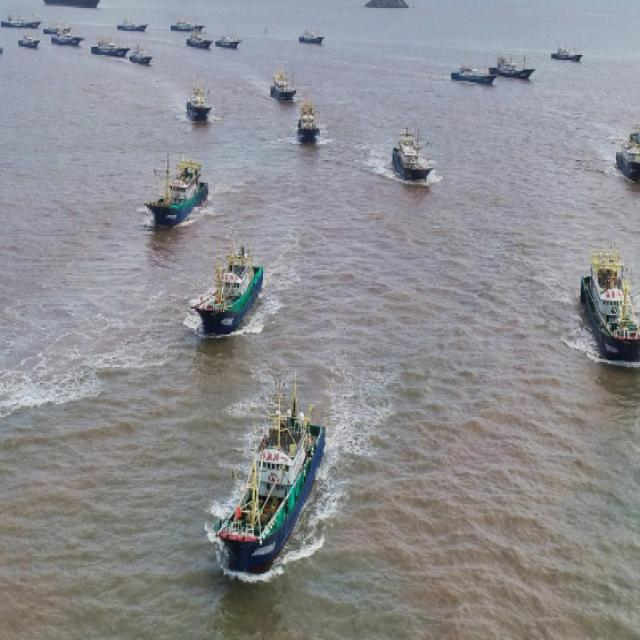fishing boat: (216, 370, 322, 573), (193, 234, 264, 332), (576, 246, 640, 352), (144, 154, 208, 223), (394, 126, 433, 182), (490, 50, 537, 79), (452, 60, 500, 85), (294, 100, 320, 144), (618, 136, 640, 181), (550, 38, 584, 62), (269, 72, 297, 100), (89, 39, 130, 58), (0, 12, 45, 27), (49, 29, 83, 46), (129, 45, 153, 69), (185, 30, 210, 51), (43, 0, 106, 8), (298, 28, 324, 44), (41, 21, 73, 34), (17, 34, 40, 49), (170, 21, 204, 31), (118, 21, 146, 33), (217, 36, 240, 49)
